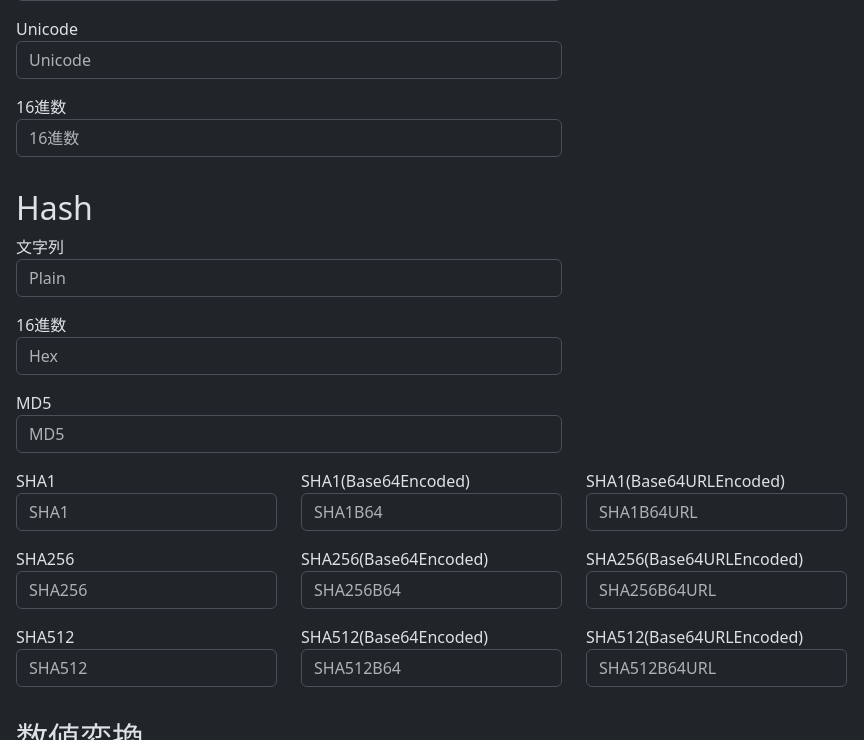
Test case: Develop.vue › hash 00 error
This screenshot has width=864, height=740.
(page scrolled)
Type "00" into the field with id "hashHex" at (289, 356), box [16,337,562,375]
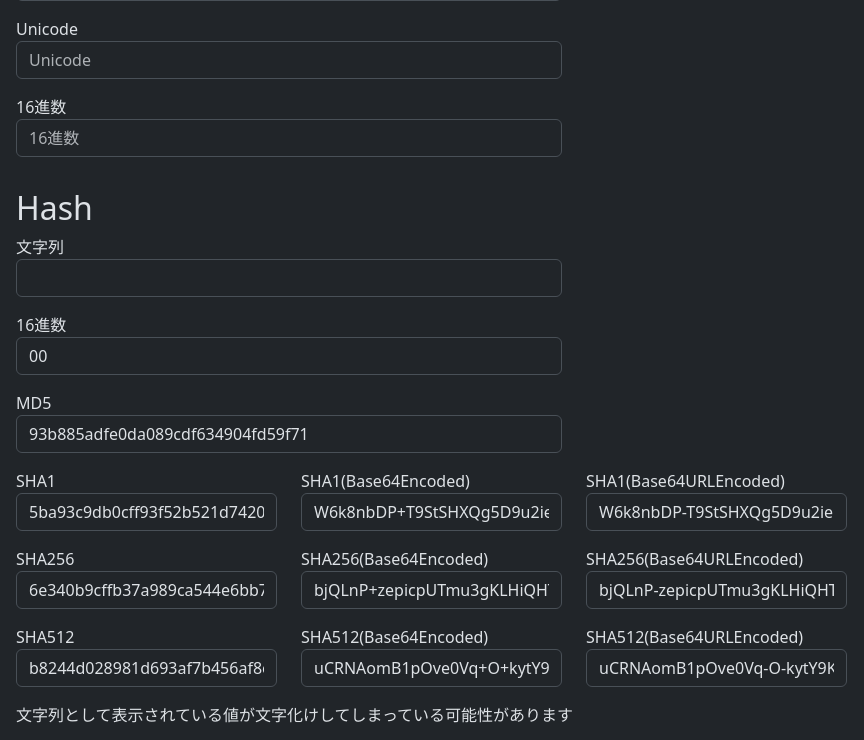
Check: the text "文字列として表示されている値が文字化けしてしまっている可能性があります" is shown, box [16,704,573,726]
